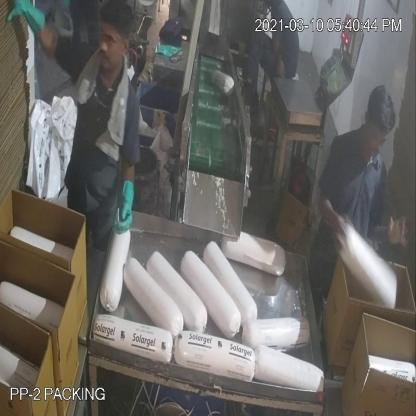glove: (112, 175, 146, 238), (3, 0, 50, 40)
no_glove: (309, 176, 350, 250), (368, 204, 414, 257)
